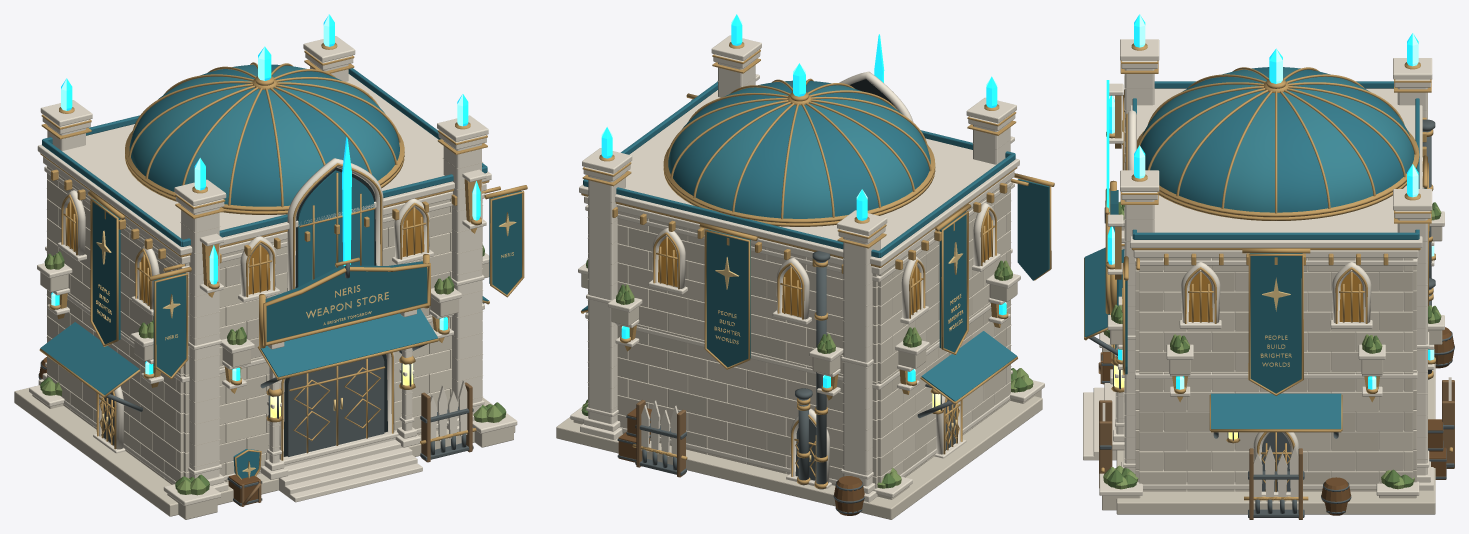
Rendered from Neris-Weapon-Store.glb.
The picture shows the model from 3 angles, left to right: view 1: azimuth 30°, elevation 25°; view 2: azimuth 150°, elevation 25°; view 3: azimuth 270°, elevation 25°; orthographic projection. The views are drawn at different scales.
Parts seen in each view (by area): view 1: Pale Carved Stone, Teal Enamel Roof, Aged Gold, Neris Teal Banner, Teal Enamel Alternate, Limestone Block Tone 4, Ivory Limestone, Patinated Iron, Limestone Block Tone 2, Limestone Block Tone 1, Limestone Block Tone 3, Cyan Relay Crystal (+8 smaller); view 2: Pale Carved Stone, Teal Enamel Roof, Aged Gold, Limestone Block Tone 3, Teal Enamel Alternate, Limestone Block Tone 2, Limestone Block Tone 1, Neris Teal Banner, Ivory Limestone, Limestone Block Tone 4, Patinated Iron, Cyan Relay Crystal (+6 smaller); view 3: Pale Carved Stone, Teal Enamel Roof, Aged Gold, Teal Enamel Alternate, Limestone Block Tone 1, Limestone Block Tone 4, Limestone Block Tone 2, Ivory Limestone, Limestone Block Tone 3, Neris Teal Banner, Patinated Iron, Walnut Light Grain (+7 smaller).
Boxes of the visible parts, box(x1,y1,x2,y2) form: Pale Carved Stone: box(29, 36, 517, 505); Teal Enamel Roof: box(40, 64, 488, 478); Aged Gold: box(39, 43, 527, 479); Neris Teal Banner: box(92, 191, 521, 376); Teal Enamel Alternate: box(131, 64, 395, 205); Limestone Block Tone 4: box(47, 194, 482, 481); Ivory Limestone: box(14, 157, 515, 519); Patinated Iron: box(38, 263, 484, 505); Limestone Block Tone 2: box(47, 199, 482, 484); Limestone Block Tone 1: box(47, 166, 482, 481); Limestone Block Tone 3: box(47, 199, 482, 472); Cyan Relay Crystal: box(51, 14, 480, 380); Pale Carved Stone: box(570, 35, 1044, 502); Teal Enamel Roof: box(581, 81, 1017, 401); Aged Gold: box(581, 42, 1054, 488); Limestone Block Tone 3: box(588, 182, 1010, 482); Teal Enamel Alternate: box(668, 80, 930, 218); Limestone Block Tone 2: box(588, 179, 1010, 457); Limestone Block Tone 1: box(588, 192, 1010, 488); Neris Teal Banner: box(691, 99, 1049, 367); Ivory Limestone: box(556, 76, 1042, 519); Limestone Block Tone 4: box(588, 204, 1010, 474); Patinated Iron: box(586, 251, 955, 514); Cyan Relay Crystal: box(601, 14, 1006, 388); Pale Carved Stone: box(1083, 39, 1451, 501); Teal Enamel Roof: box(1084, 67, 1419, 429); Aged Gold: box(1084, 43, 1452, 500); Teal Enamel Alternate: box(1142, 67, 1414, 212); Limestone Block Tone 1: box(1135, 258, 1416, 491); Limestone Block Tone 4: box(1135, 258, 1416, 491); Limestone Block Tone 2: box(1135, 258, 1416, 491); Ivory Limestone: box(1102, 76, 1442, 514); Limestone Block Tone 3: box(1135, 258, 1416, 491); Neris Teal Banner: box(1110, 188, 1426, 393); Patinated Iron: box(1089, 119, 1454, 517); Walnut Light Grain: box(1098, 352, 1454, 519).
Bounding box in the file's own units: 13.31 × 12.23 × 10.84.
